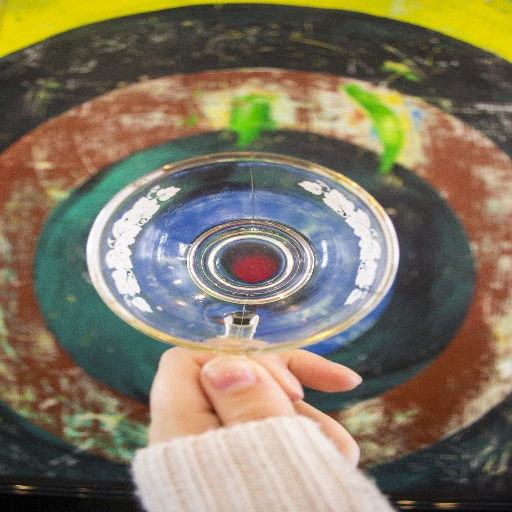hand: (114, 329, 382, 480)
